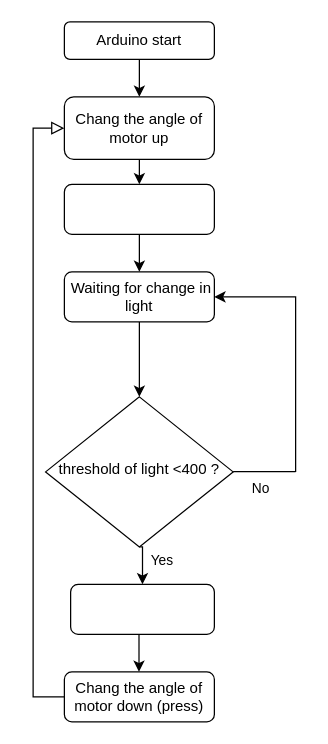
This 328x744 diagram has some shape labels left out. Here are the shapes that lost their labels. From the top down, the box of each, then its label:
(63, 183, 214, 234): Delay 1 sec
(69, 583, 214, 634): Delay 100 ms
